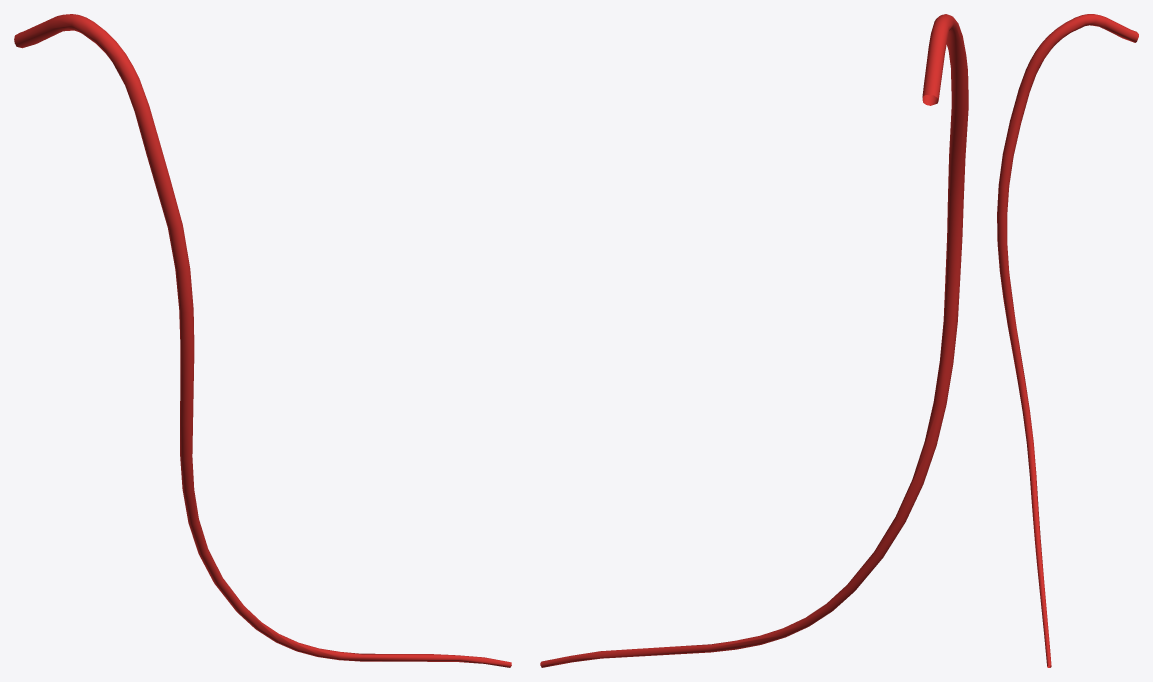
The model's file is circulatorio-superior-thyroid-vein-r.glb.
The picture shows the model from 3 angles, left to right: view 1: azimuth 30°, elevation 25°; view 2: azimuth 150°, elevation 25°; view 3: azimuth 270°, elevation 25°; orthographic projection. The views are drawn at different scales.
Parts seen in each view (by area): view 1: Superior thyroid vein.r; view 2: Superior thyroid vein.r; view 3: Superior thyroid vein.r.
Boxes of the visible parts, left/top/right/bottom form: Superior thyroid vein.r: left=14, top=14, right=511, bottom=667; Superior thyroid vein.r: left=540, top=14, right=968, bottom=667; Superior thyroid vein.r: left=997, top=14, right=1138, bottom=667.
Size of the model in its own units: 0.0308 by 0.0492 by 0.0123.
